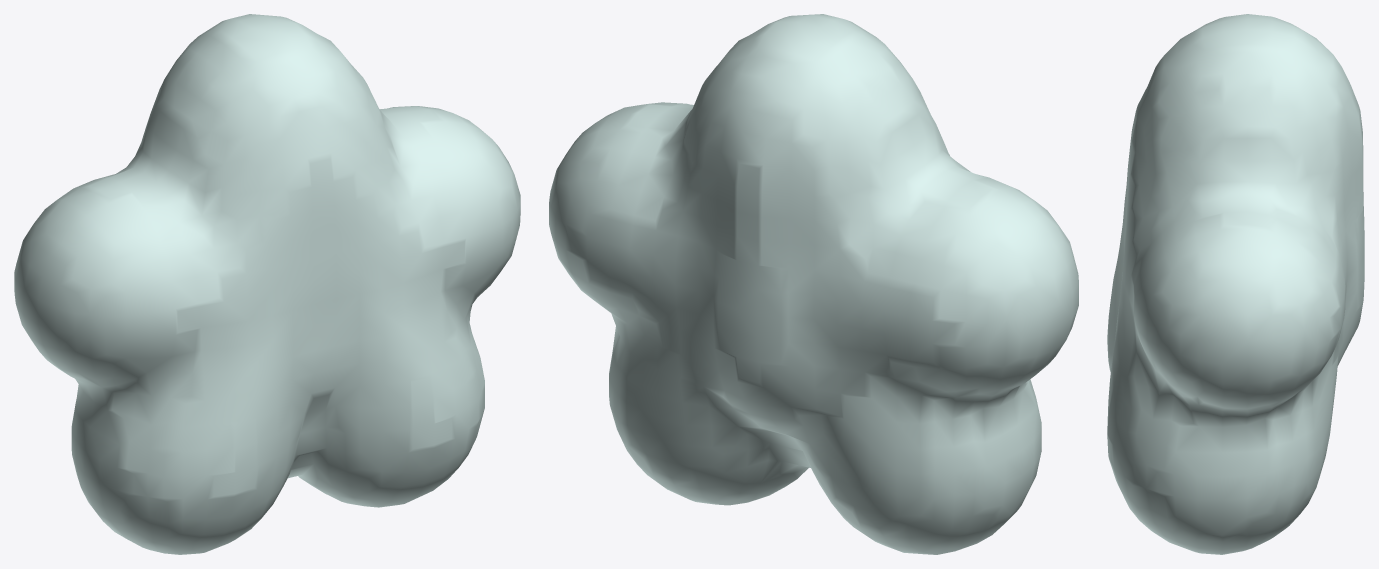
The model's file is star.glb.
3 views of the same model, side by side, from view 1: azimuth 30°, elevation 25°; view 2: azimuth 150°, elevation 25°; view 3: azimuth 270°, elevation 25° (orthographic). The views are drawn at different scales.
Visible parts, largest first — view 1: model_0.001; view 2: model_0.001; view 3: model_0.001.
Part boxes in pixels (left/top/right/bottom): model_0.001: left=14, top=14, right=520, bottom=554; model_0.001: left=549, top=14, right=1078, bottom=554; model_0.001: left=1107, top=14, right=1364, bottom=554.
Size of the model in its own units: 262 by 253 by 125.
1 material, 1 textured.
